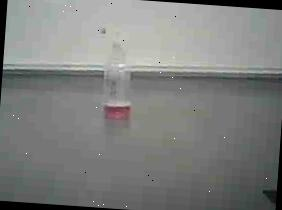hazard: (88, 24, 140, 126)
